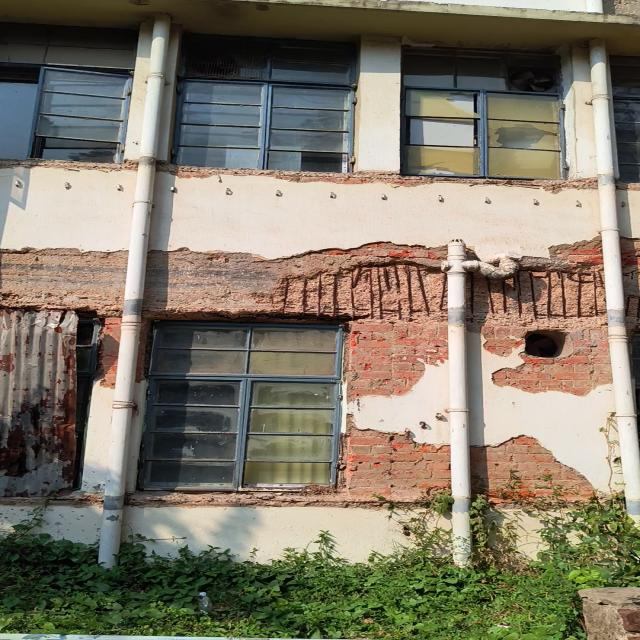peeling: (146, 243, 441, 309), (0, 248, 126, 315), (126, 488, 383, 508), (60, 492, 101, 504)
spalling: (238, 256, 444, 321), (161, 164, 596, 194), (482, 323, 611, 396), (471, 436, 593, 501), (341, 429, 449, 501), (347, 322, 446, 398), (489, 270, 600, 320), (0, 161, 136, 174), (127, 0, 149, 6), (255, 2, 268, 11), (214, 0, 239, 3)
stain_mould: (227, 0, 639, 25)
